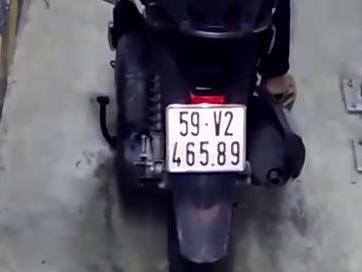num_plate: (164, 105, 247, 174)
